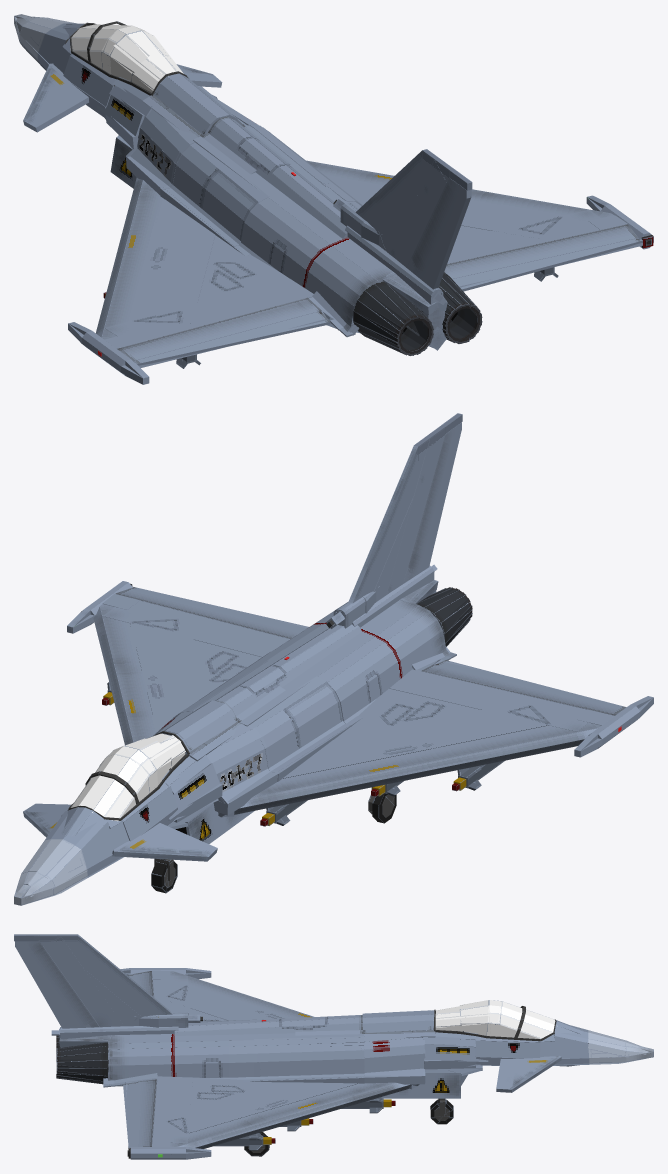
Rendered from eurofighter.gltf.
The picture shows the model from 3 angles, top to bottom: view 1: azimuth 30°, elevation 25°; view 2: azimuth 150°, elevation 25°; view 3: azimuth 270°, elevation 25°; orthographic projection. The views are drawn at different scales.
Parts seen in each view (by area): view 1: Fuselage (×25), Wings (×8), flapL (×2), flapR (×2), Verticalwing (×3), flapRV (×2), Engines (×3), Air_Brake (×2), flapLB, CockpitHatch; view 2: Wings (×10), Fuselage (×20), Verticalwing (×3), flapRV (×2), flapL (×2), flapR (×2), CockpitHatch (×3), Air_Brake; view 3: Fuselage (×32), Wings (×8), Verticalwing (×4), flapRV (×2), flapR (×2), Engine (×4), Air_Brake (×2), CockpitHatch (×2), flapRB, flapL.
Part boxes in pixels (bbox=[...]): Fuselage (×25): bbox=[63, 56, 436, 326]; Wings (×8): bbox=[96, 160, 613, 343]; flapL (×2): bbox=[117, 297, 330, 365]; flapR (×2): bbox=[444, 224, 642, 291]; Verticalwing (×3): bbox=[355, 150, 446, 267]; flapRV (×2): bbox=[410, 178, 470, 289]; Engines (×3): bbox=[353, 283, 413, 338]; Air_Brake (×2): bbox=[155, 78, 217, 135]; flapLB: bbox=[23, 89, 88, 132]; CockpitHatch: bbox=[109, 44, 160, 90]; Wings (×10): bbox=[93, 598, 600, 817]; Fuselage (×20): bbox=[123, 598, 446, 843]; Verticalwing (×3): bbox=[348, 438, 442, 603]; flapRV (×2): bbox=[407, 431, 461, 575]; flapL (×2): bbox=[421, 660, 626, 715]; flapR (×2): bbox=[115, 586, 308, 639]; CockpitHatch (×3): bbox=[79, 754, 150, 821]; Air_Brake: bbox=[184, 710, 237, 750]; Fuselage (×32): bbox=[60, 1015, 588, 1098]; Wings (×8): bbox=[152, 971, 419, 1148]; Verticalwing (×4): bbox=[38, 934, 172, 1027]; flapRV (×2): bbox=[15, 941, 94, 1028]; flapR (×2): bbox=[123, 1079, 157, 1147]; Engine (×4): bbox=[56, 1045, 108, 1076]; Air_Brake (×2): bbox=[362, 1014, 431, 1032]; CockpitHatch (×2): bbox=[497, 1006, 557, 1038]; flapRB: bbox=[496, 1059, 515, 1092]; flapL: bbox=[133, 971, 154, 997].
Size of the model in its own units: 7.82 by 3.73 by 11.47.
1 material, 1 textured.
